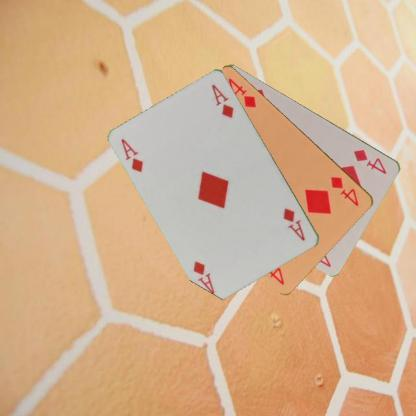4d: (328, 173, 361, 208), (352, 146, 388, 176)
Ad: (118, 136, 145, 174), (281, 205, 307, 242)
